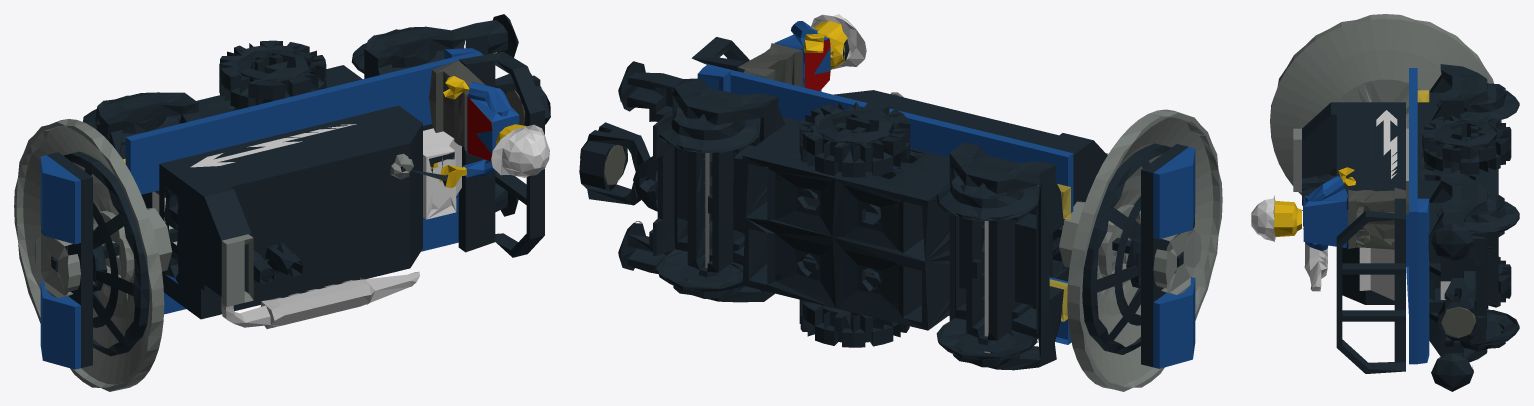
File: train-track-snow-remover.glb
3 renders of one model, left to right at view 1: azimuth 30°, elevation 25°; view 2: azimuth 150°, elevation 25°; view 3: azimuth 270°, elevation 25°, orthographic. The views are drawn at different scales.
Bounding box in the file's own units: 144 × 64 × 74.2.
